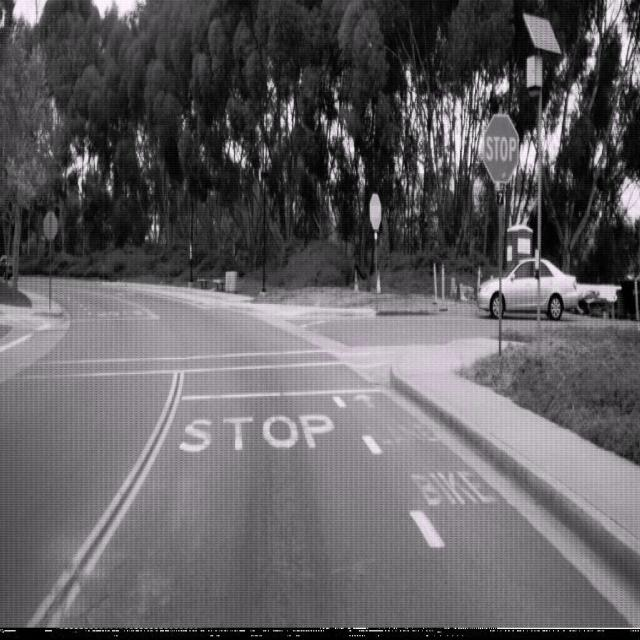stop_sign: (482, 111, 520, 184), (369, 192, 382, 230)
